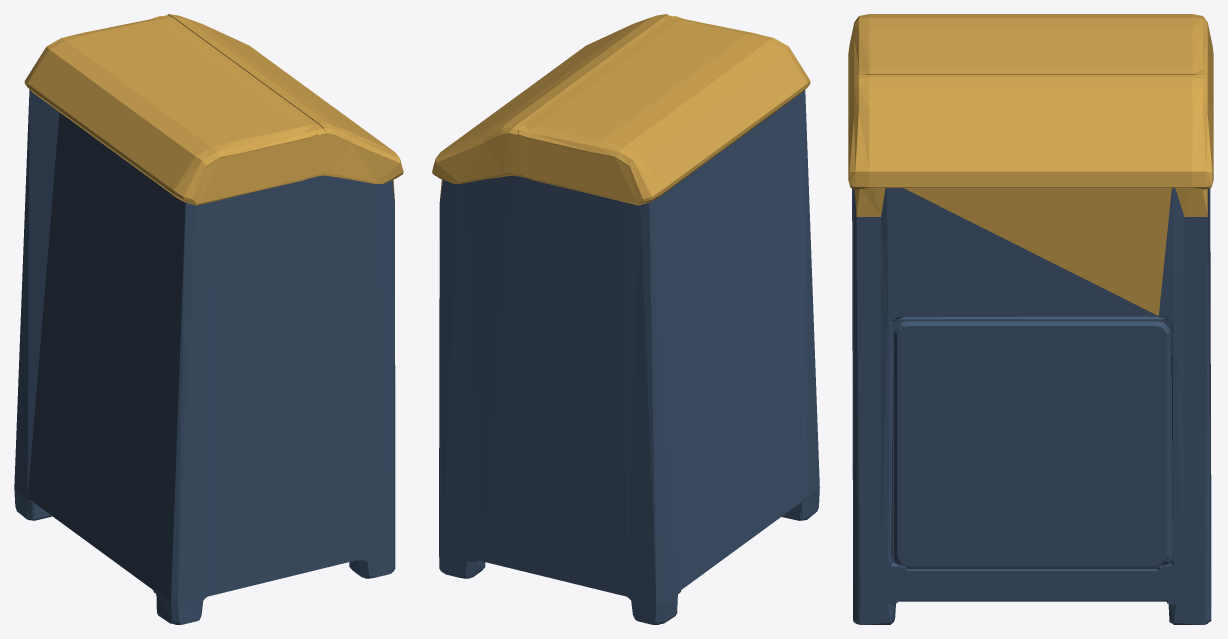
Rendered from recycling_bin.glb.
3 views of the same model, side by side, from view 1: azimuth 30°, elevation 25°; view 2: azimuth 150°, elevation 25°; view 3: azimuth 270°, elevation 25° (orthographic). The views are drawn at different scales.
Visible parts, largest first — view 1: RecyclingBin_MeshAxiom; view 2: RecyclingBin_MeshAxiom; view 3: RecyclingBin_MeshAxiom.
Part boxes in pixels (left/top/right/bottom): RecyclingBin_MeshAxiom: left=14, top=14, right=403, bottom=624; RecyclingBin_MeshAxiom: left=432, top=14, right=819, bottom=624; RecyclingBin_MeshAxiom: left=848, top=14, right=1213, bottom=624.
Bounding box in the file's own units: 0.5247 × 1 × 0.644.
